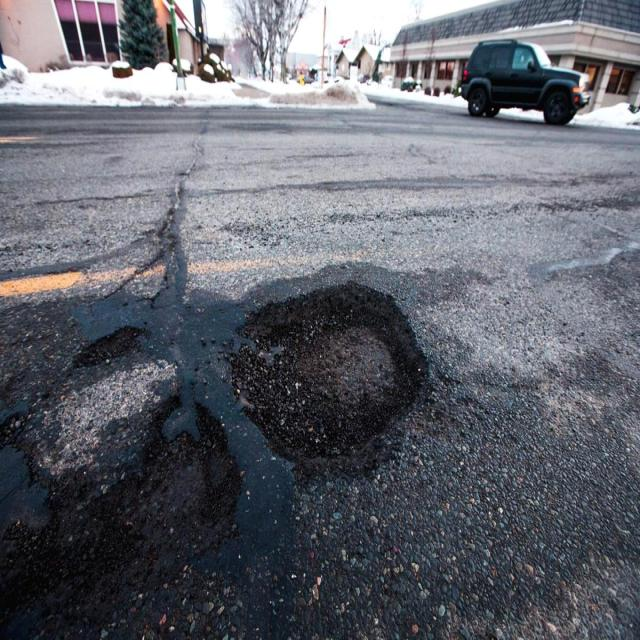pothole: (5, 314, 216, 604), (220, 274, 435, 492)
